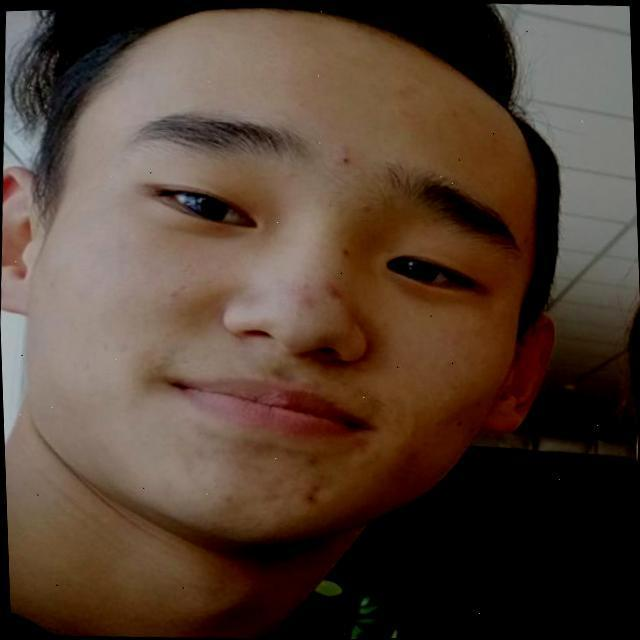acne: (166, 285, 183, 303)
blackhead: (301, 490, 322, 507), (336, 154, 353, 167)
nodules: (322, 286, 345, 304), (293, 291, 314, 309), (301, 453, 319, 468)
